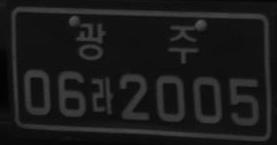0: (191, 75, 223, 124), (155, 74, 186, 122), (22, 68, 52, 116)
2: (119, 73, 150, 120)
5: (228, 76, 260, 126)
6: (57, 69, 87, 117)
광주_D: (76, 21, 198, 64)
라: (91, 76, 113, 115)
